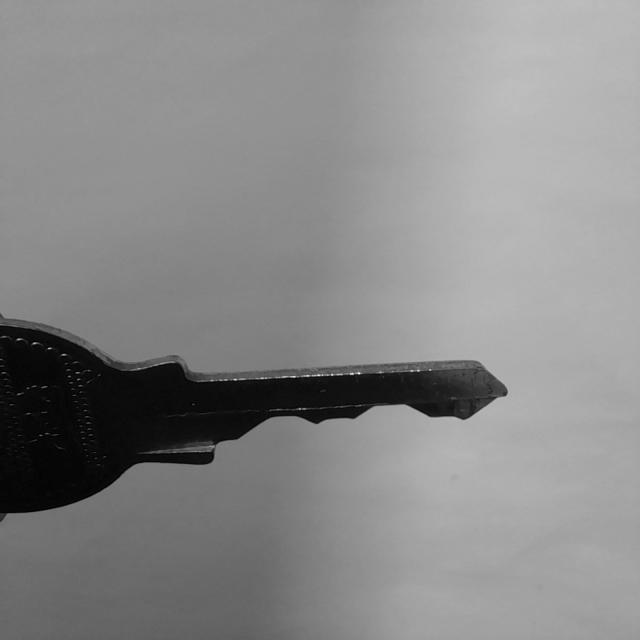KEY: (0, 319, 506, 514)
